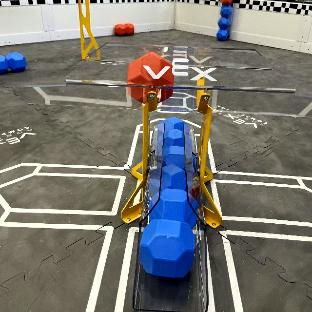V5_BLUE: (140, 189, 196, 277), (158, 117, 189, 167), (216, 0, 232, 39), (0, 53, 25, 73)
V5_RED: (127, 53, 173, 86), (129, 87, 146, 101), (115, 23, 124, 35)
blueingoal: (157, 88, 172, 101)
